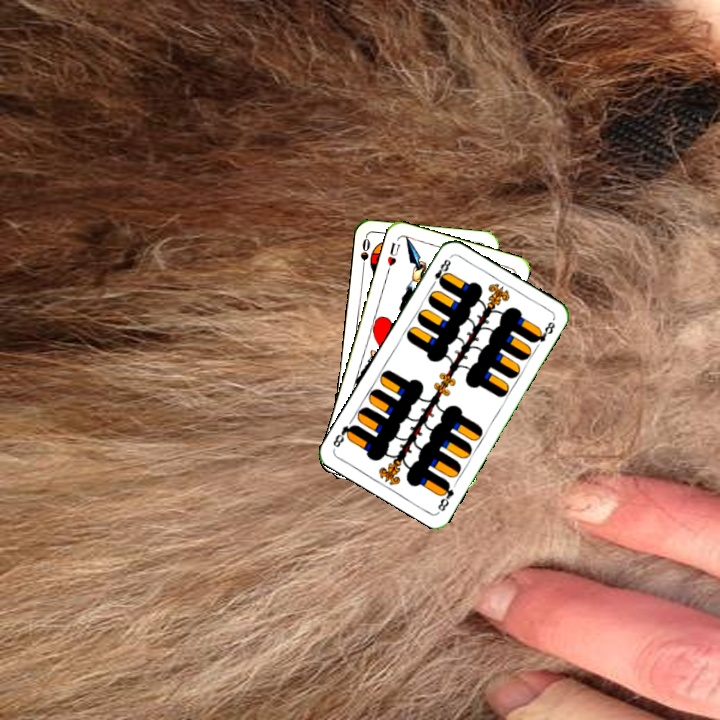E8: (427, 253, 454, 290), (434, 477, 460, 514)
HU: (383, 238, 403, 275)
SO: (356, 234, 373, 275)
